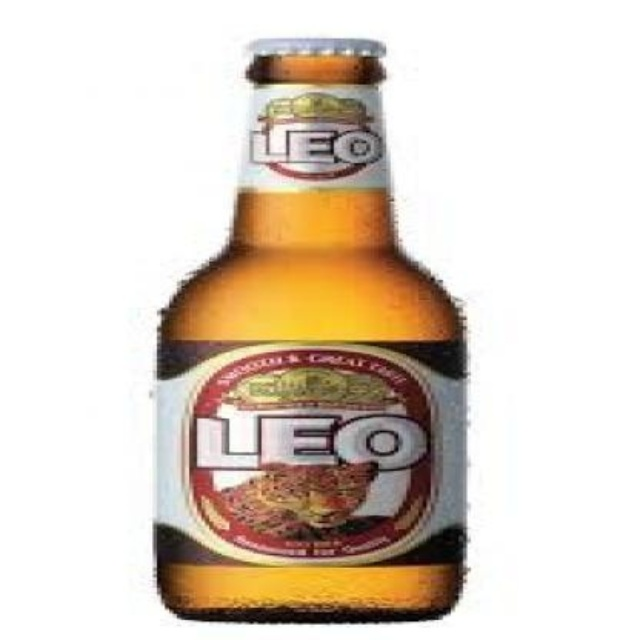trash: (155, 38, 463, 620)
